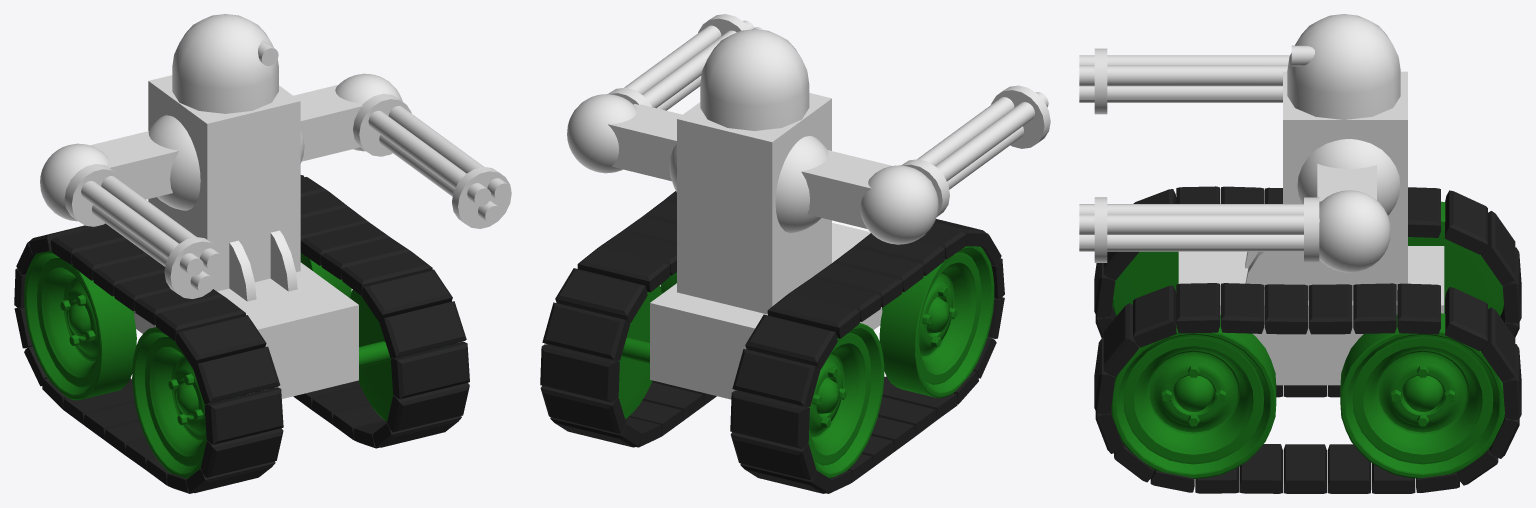
File: Robot.FBX
3 views of the same model, side by side, from view 1: azimuth 30°, elevation 25°; view 2: azimuth 150°, elevation 25°; view 3: azimuth 270°, elevation 25° (orthographic). The views are drawn at different scales.
Visible parts, largest first — view 1: TankTracksRight, TankTracksLeft, Box002, Cylinder006, Box001, Capsule001, Sphere003, Cylinder009, Cylinder012; view 2: TankTracksRight, Box002, TankTracksLeft, Sphere003, Box001, Capsule001, Cylinder006, Cylinder009; view 3: TankTracksLeft, Cylinder006, TankTracksRight, Box002, Capsule001, Sphere003, Box001, Cylinder009, Cylinder012.
Boxes of the visible parts, x1,y1,x2,y2 form: TankTracksRight: (14, 223, 283, 493); TankTracksLeft: (293, 175, 469, 448); Box002: (90, 75, 363, 291); Cylinder006: (81, 106, 511, 293); Box001: (134, 262, 358, 398); Capsule001: (172, 14, 278, 113); Sphere003: (40, 73, 402, 221); Cylinder009: (64, 93, 511, 298); Cylinder012: (229, 230, 297, 301); TankTracksRight: (730, 219, 1004, 493); Box002: (608, 93, 891, 314); TankTracksLeft: (540, 191, 716, 447); Sphere003: (567, 94, 938, 244); Box001: (650, 223, 882, 399); Capsule001: (700, 29, 809, 130); Cylinder006: (624, 20, 1048, 189); Cylinder009: (608, 14, 1050, 216); TankTracksLeft: (1094, 283, 1521, 493); Cylinder006: (1079, 55, 1319, 251); TankTracksRight: (1094, 186, 1521, 397); Box002: (1283, 71, 1407, 300); Capsule001: (1287, 14, 1400, 119); Sphere003: (1297, 139, 1400, 272); Box001: (1178, 246, 1444, 385); Cylinder009: (1094, 48, 1319, 262); Cylinder012: (1245, 251, 1282, 289).
Size of the model in its own units: 83.78 by 87.43 by 85.43.
